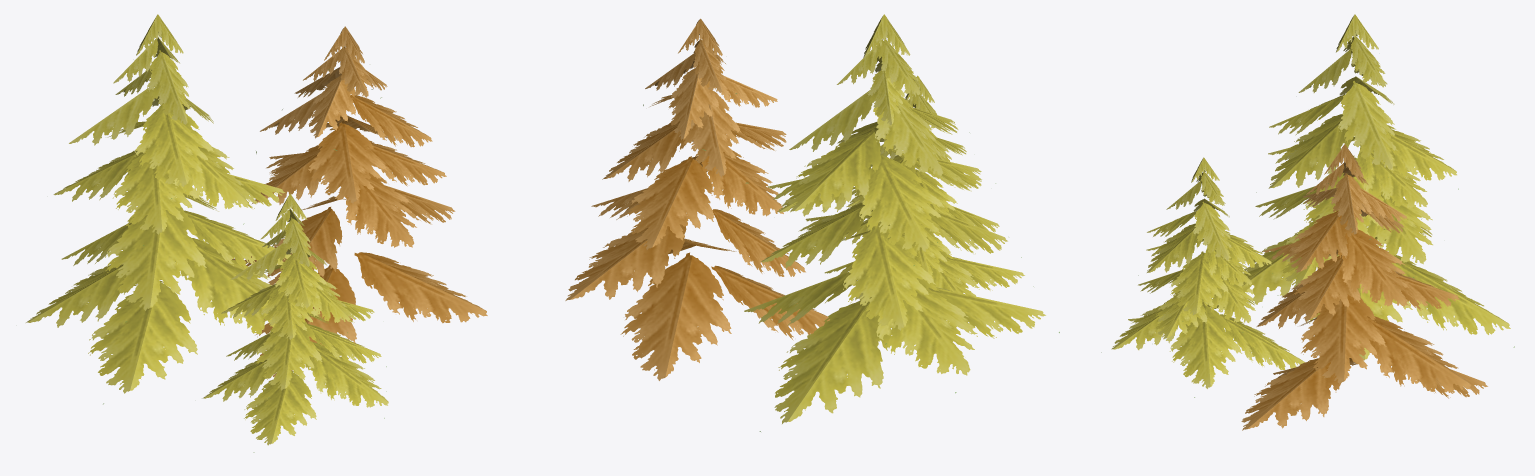
Rendered from area_08_31.fbx.
The picture shows the model from 3 angles, left to right: view 1: azimuth 30°, elevation 25°; view 2: azimuth 150°, elevation 25°; view 3: azimuth 270°, elevation 25°; orthographic projection. The views are drawn at different scales.
Visible parts, largest first — view 1: area_08_31; view 2: area_08_31; view 3: area_08_31.
Part boxes in pixels (bbox=[...]): area_08_31: bbox=[26, 14, 487, 452]; area_08_31: bbox=[565, 14, 1059, 431]; area_08_31: bbox=[1101, 14, 1514, 430].
Bounding box in the file's own units: 8.7 × 7.12 × 8.04.
